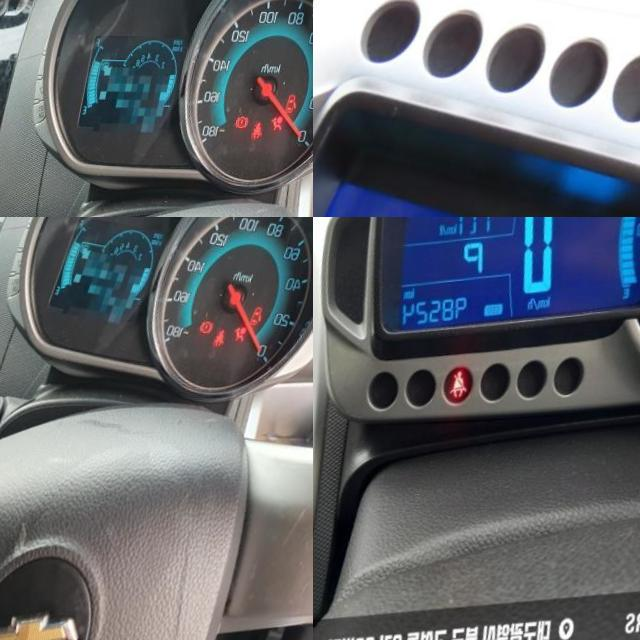Doors: (260, 304, 278, 325), (296, 92, 310, 112)
